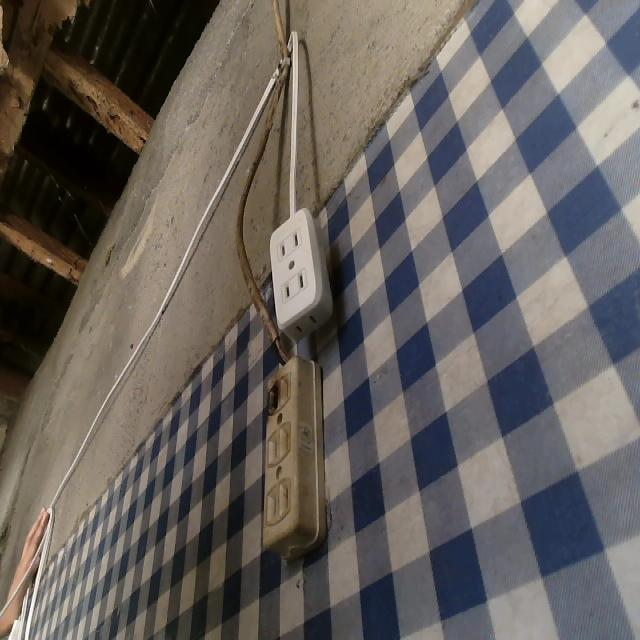-: (257, 375, 280, 413)
